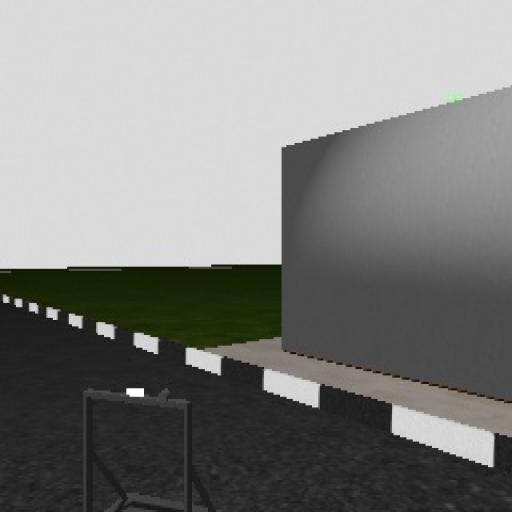huskya200: (77, 379, 205, 512)
